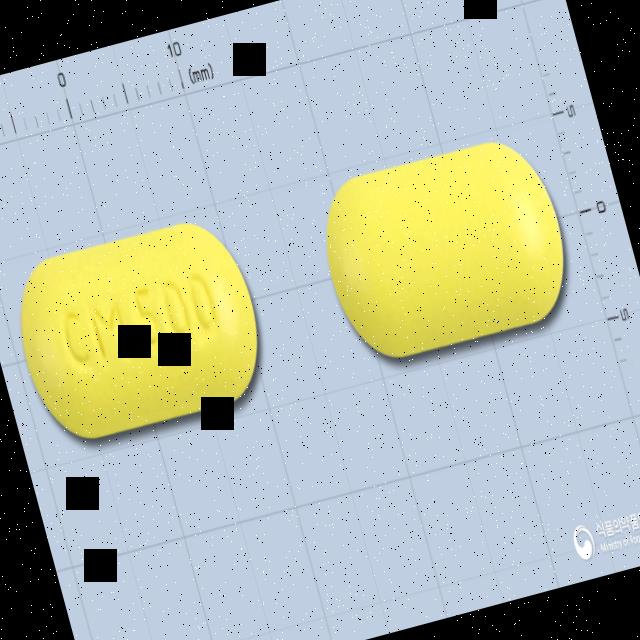Claricin: (0, 204, 280, 459)
